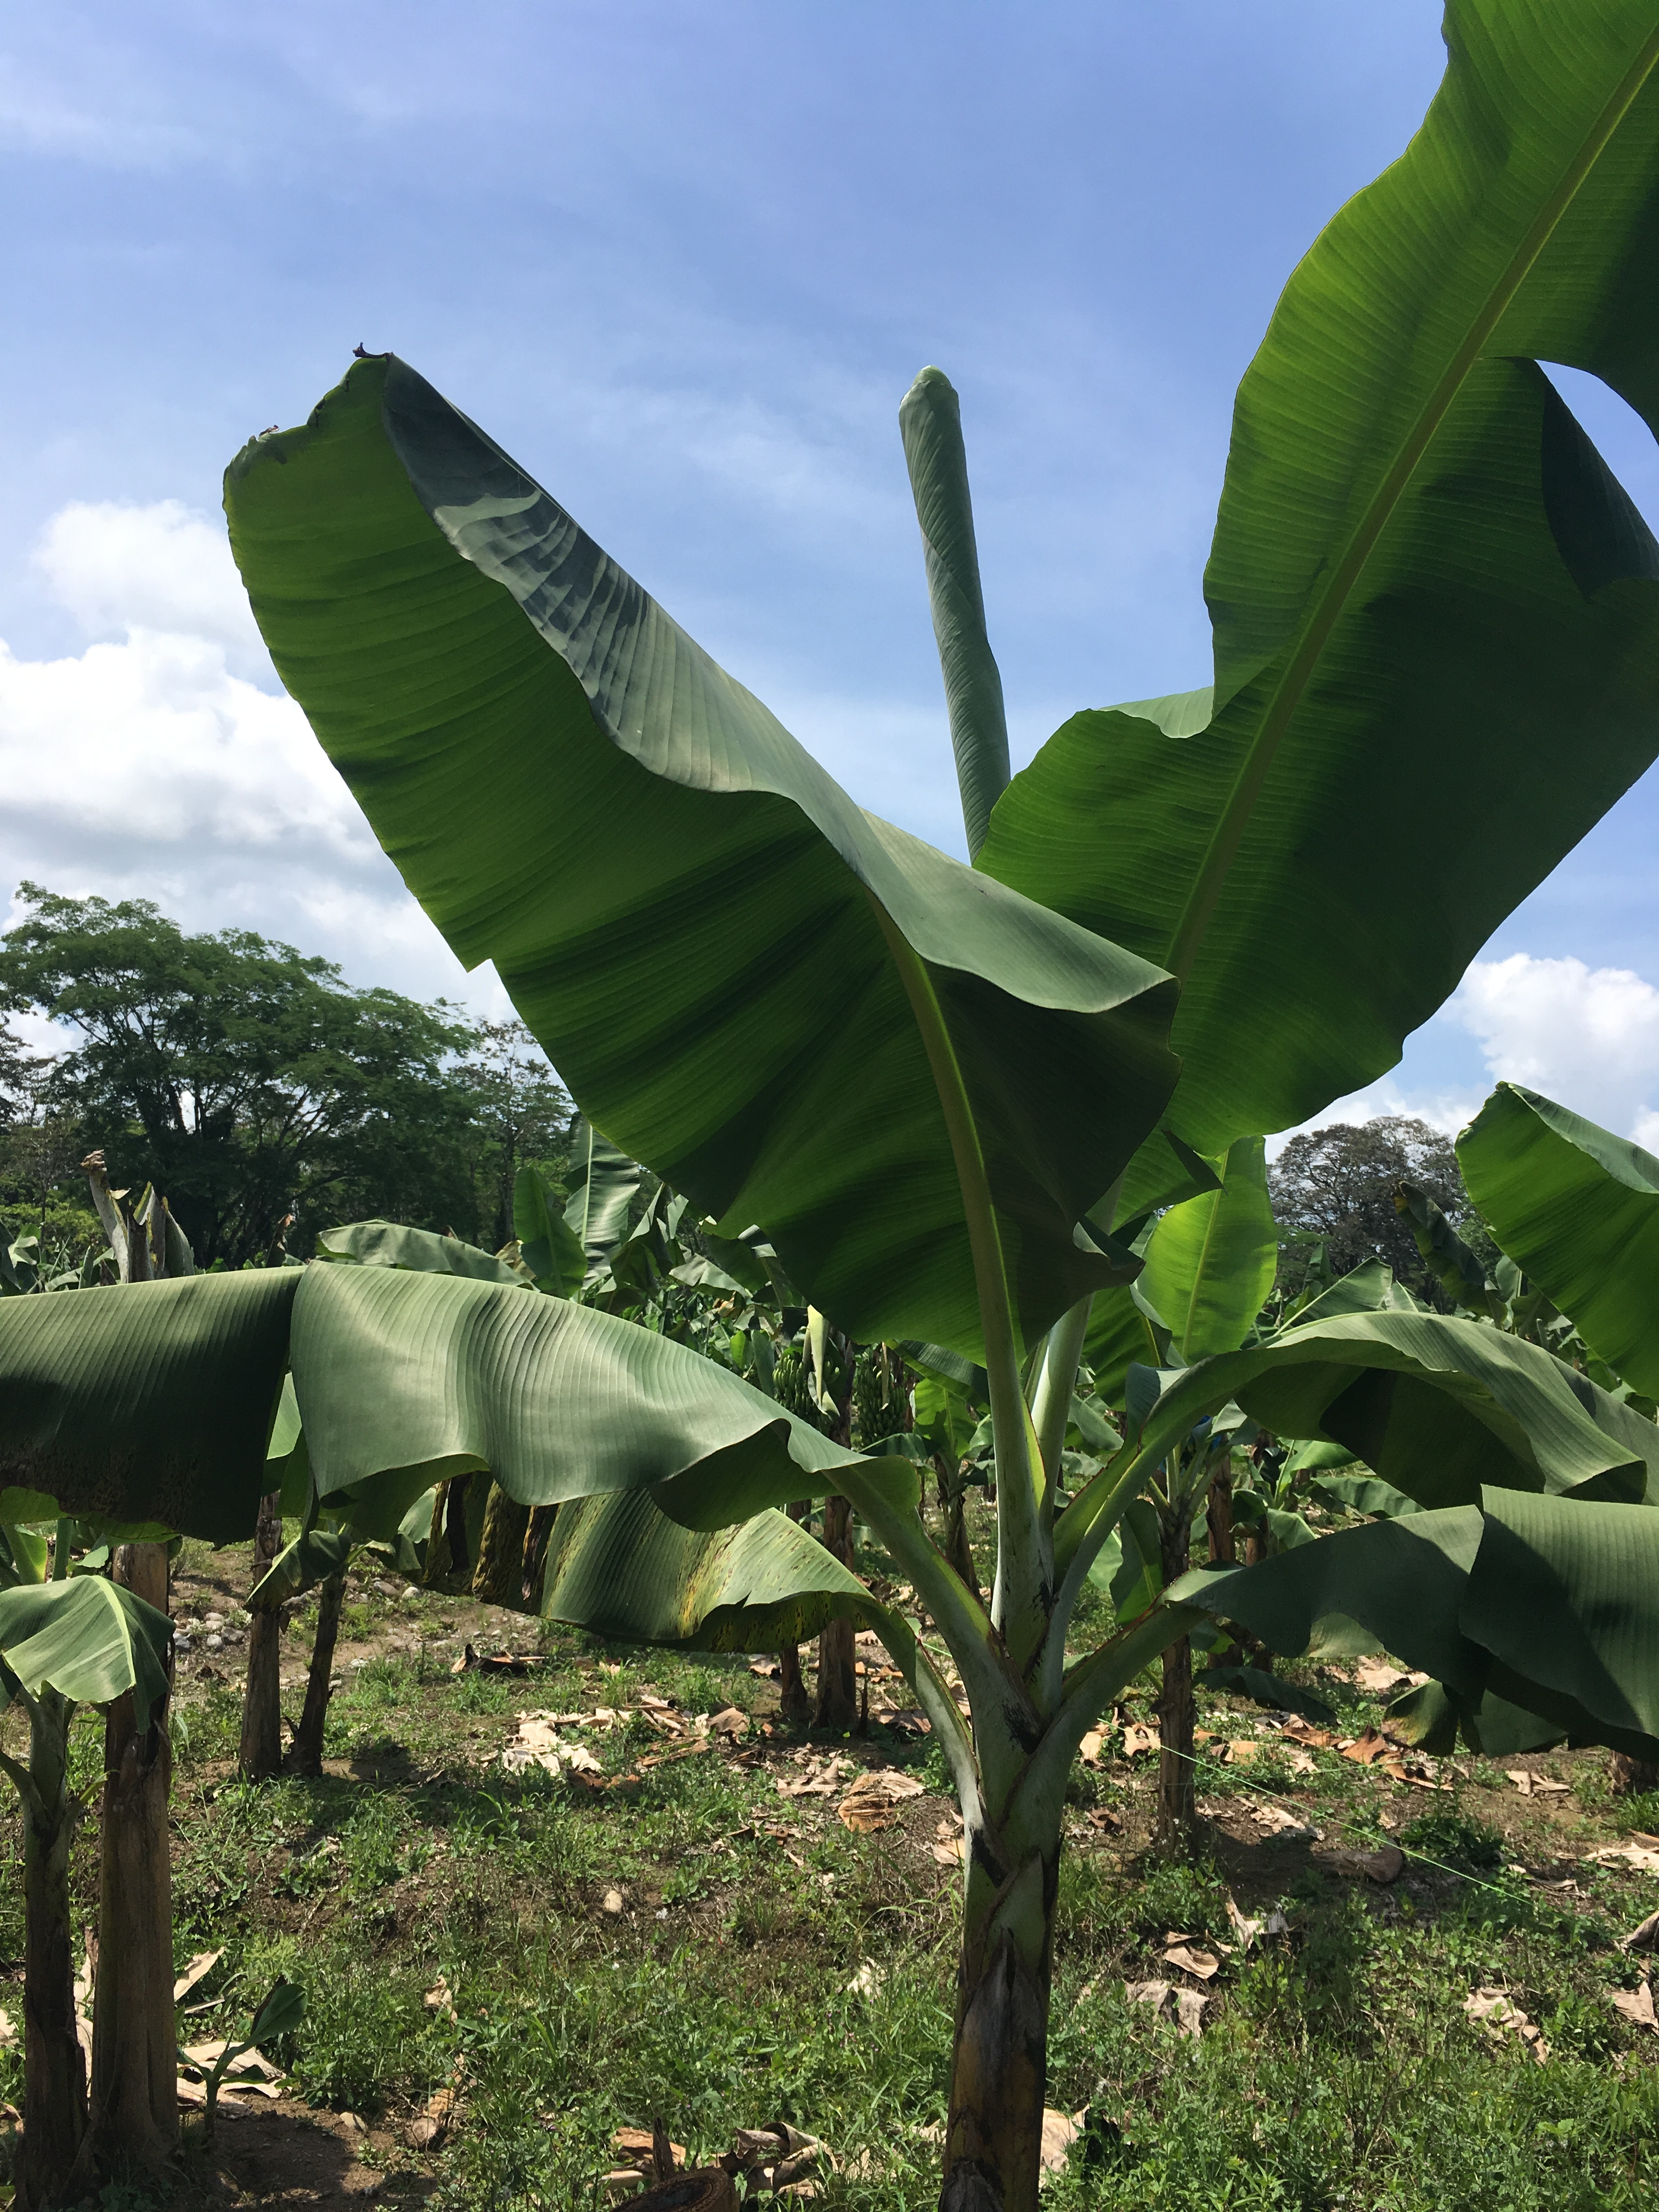candleleafs: (890, 364, 1019, 772)
